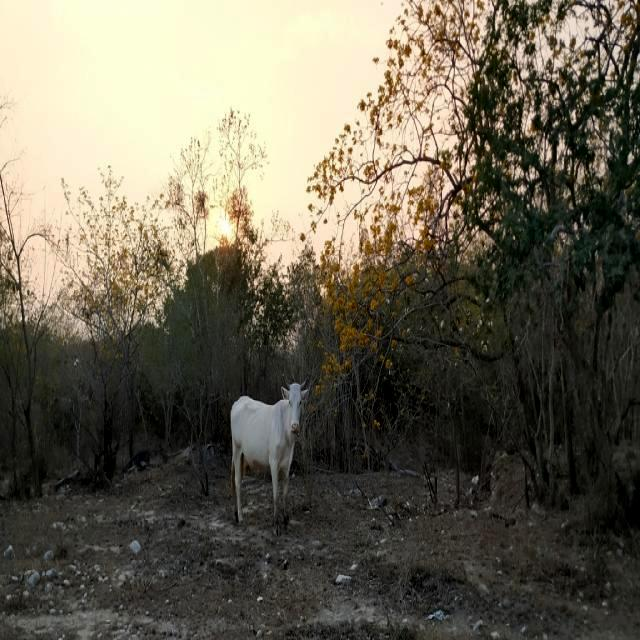COW: (231, 384, 309, 533)
